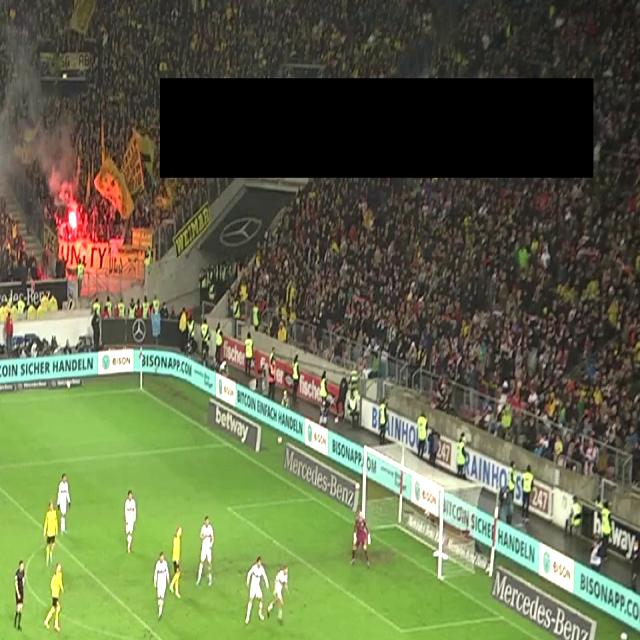goalkeeper: (346, 508, 377, 576)
referee: (4, 554, 33, 637)
soccer-player: (242, 553, 280, 633), (44, 468, 78, 547), (144, 553, 178, 626), (42, 560, 74, 637), (192, 514, 222, 594), (40, 484, 70, 564), (264, 560, 295, 632), (117, 488, 147, 561)
